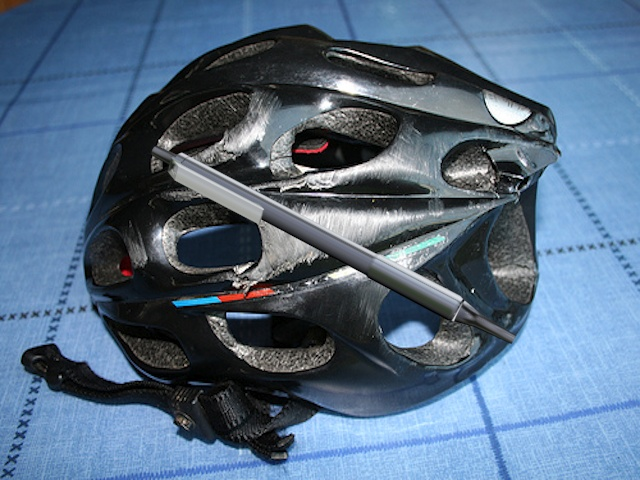pen: (145, 144, 524, 352)
